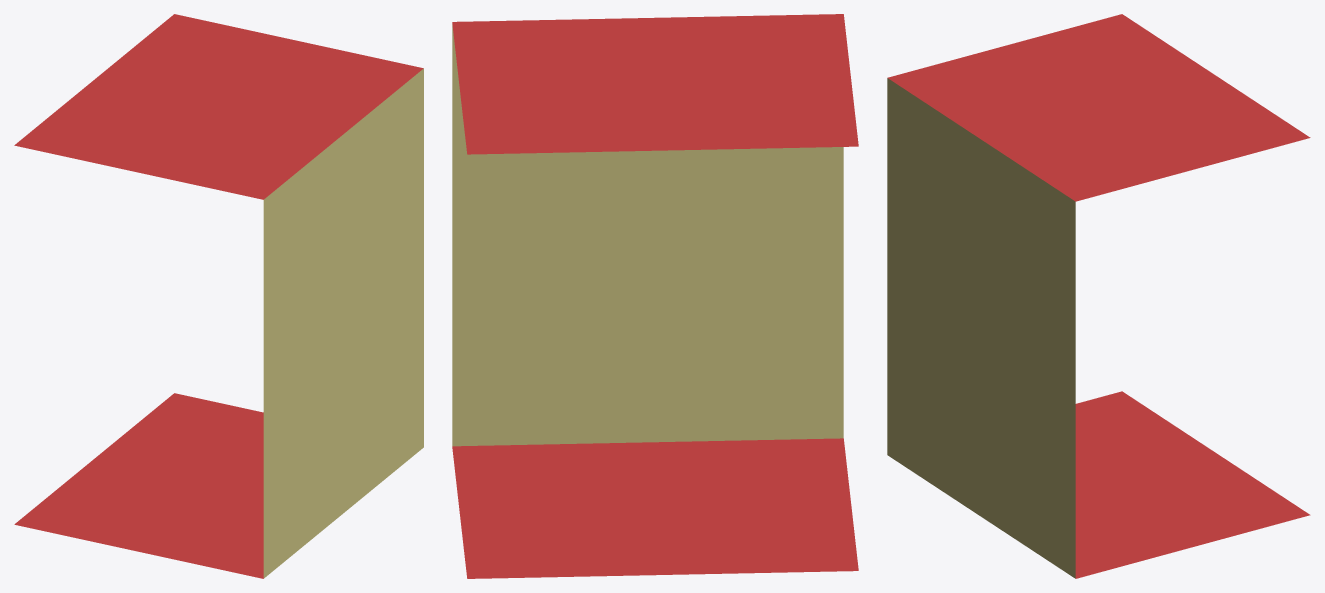
The picture shows the model from 3 angles, left to right: view 1: azimuth 30°, elevation 25°; view 2: azimuth 150°, elevation 25°; view 3: azimuth 270°, elevation 25°; orthographic projection. The views are drawn at different scales.
Size of the model in its own units: 6.4 by 6.1 by 6.
